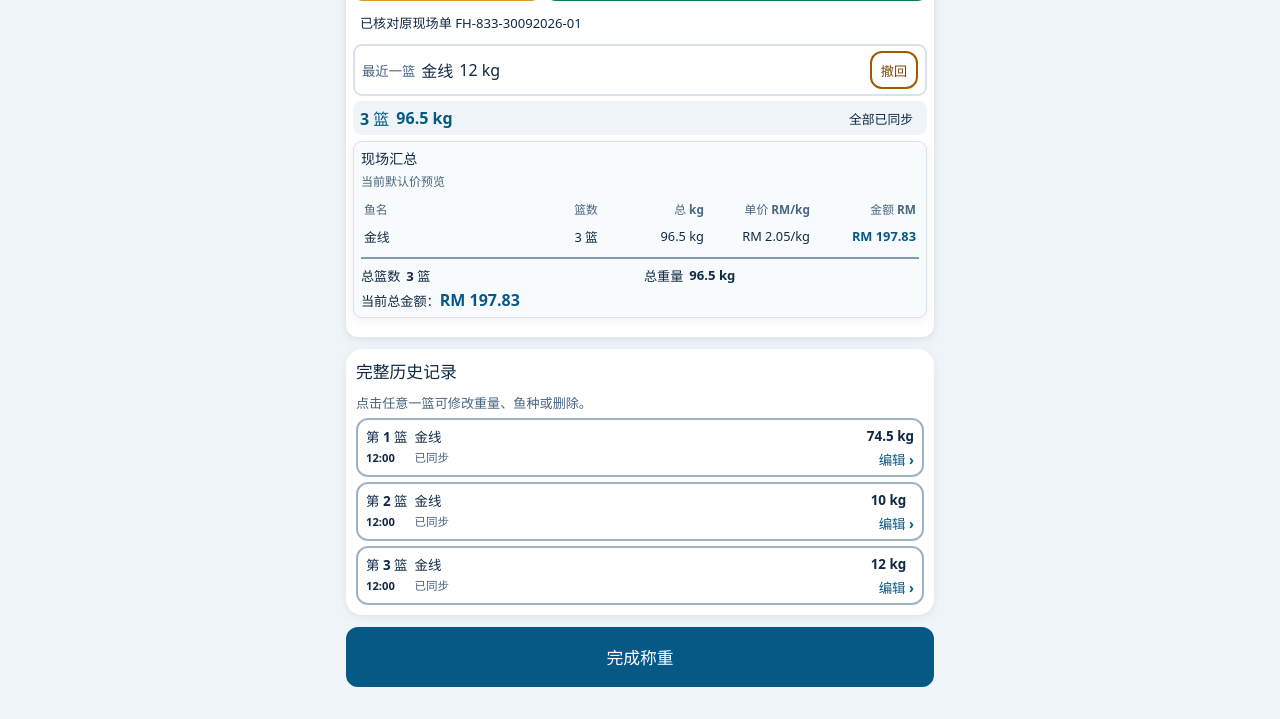
Test: 鱼头称重中任意篮编辑 › 任意较早一篮可直接改 kg，保留身份及录入资料，原位置显示修订和精确合计
(page scrolled)
Click the button "第 1 篮 金线 74.5 kg 12:00 已同步 编辑 ›" at (387, 437), box [356,418,924,477]
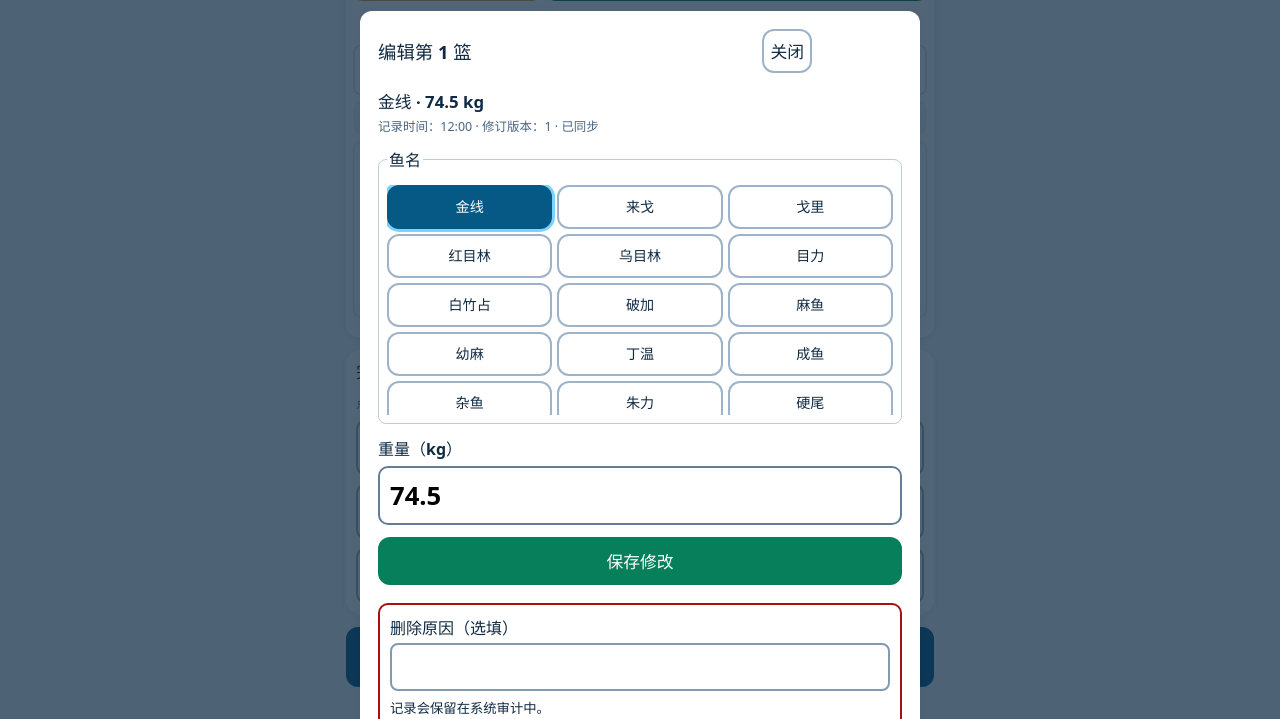
Result: the heading "编辑第 1 篮" is shown at [378,38,472,64]
Result: the dialog shows "金线" at [378,90,412,113]
Result: the dialog shows "74.5 kg" at [360,11,920,718]
Replace the text in the field labelled "重量（kg）" with "72.3" at (640, 496), box [378,466,902,525]
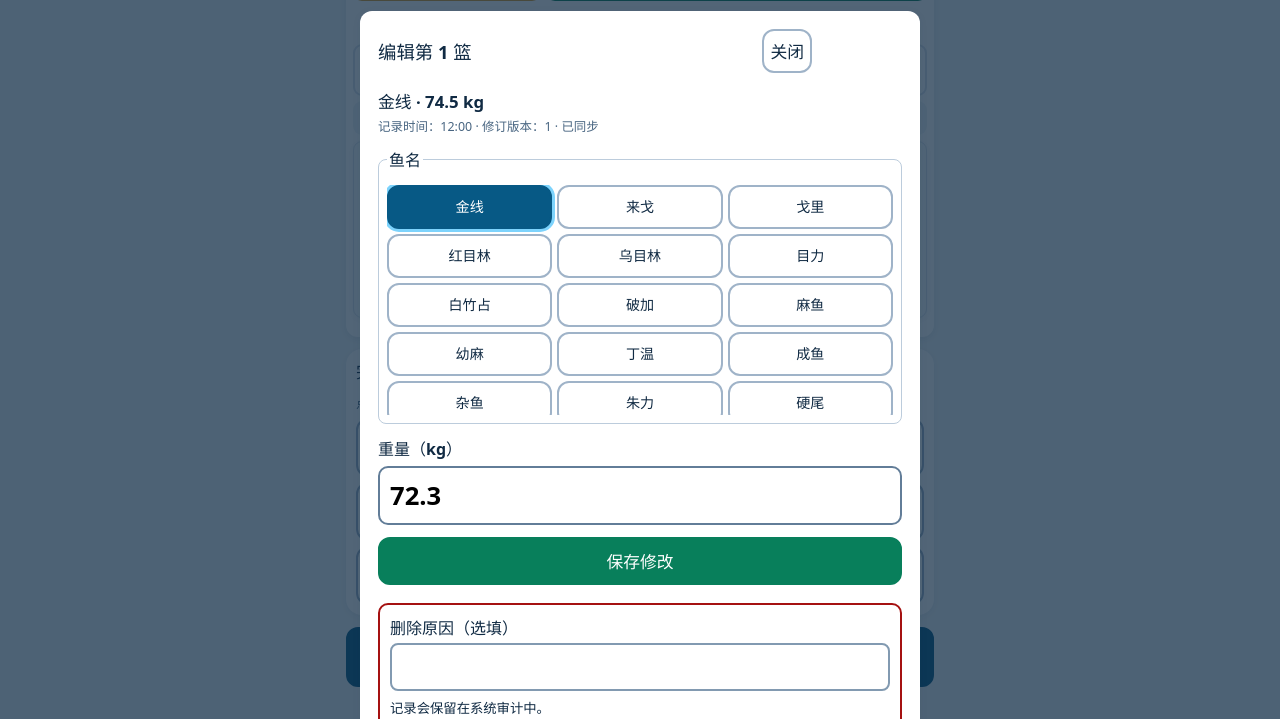
Click the button "保存修改" at (640, 561), box [378,537,902,585]
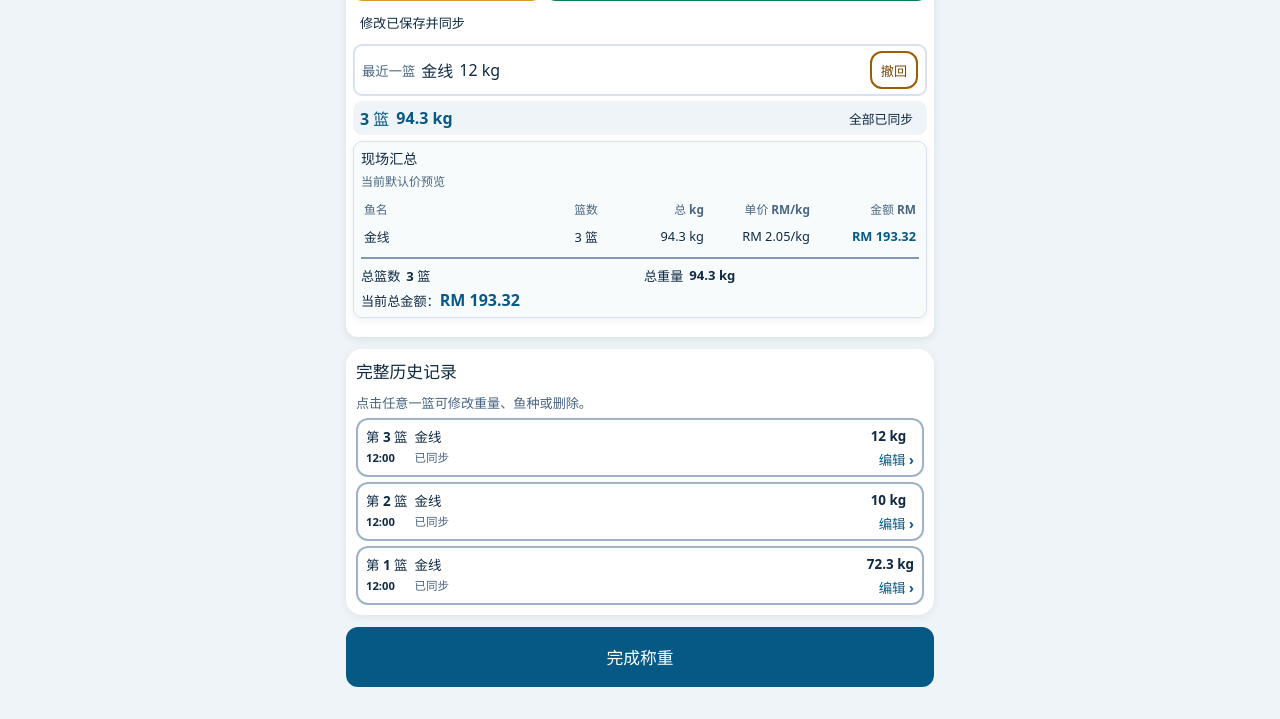
Result: the button "第 1 篮 金线 72.3 kg 12:00 已同步 编辑 ›" is shown at [356,546,924,605]
Result: the element named "现场金额总计" shows "94.3 kg" at [361,257,919,311]
Result: the element named "现场金额总计" shows "RM 193.32" at [440,289,520,311]
